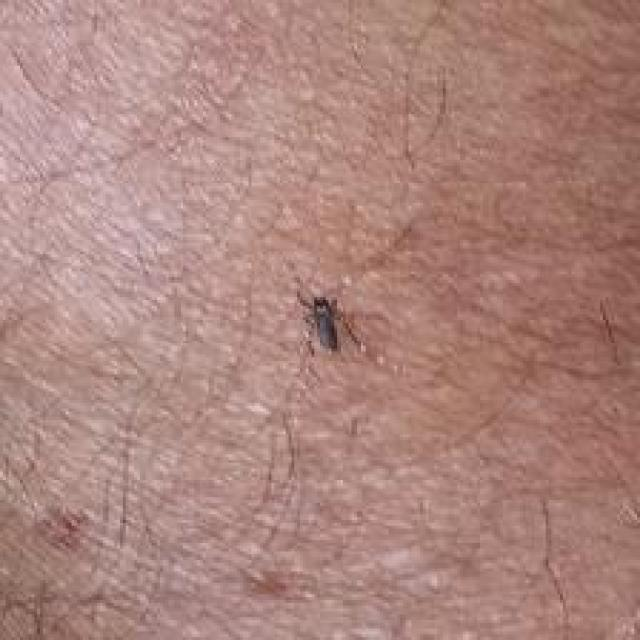Aedes albopictus: (294, 287, 363, 359)
